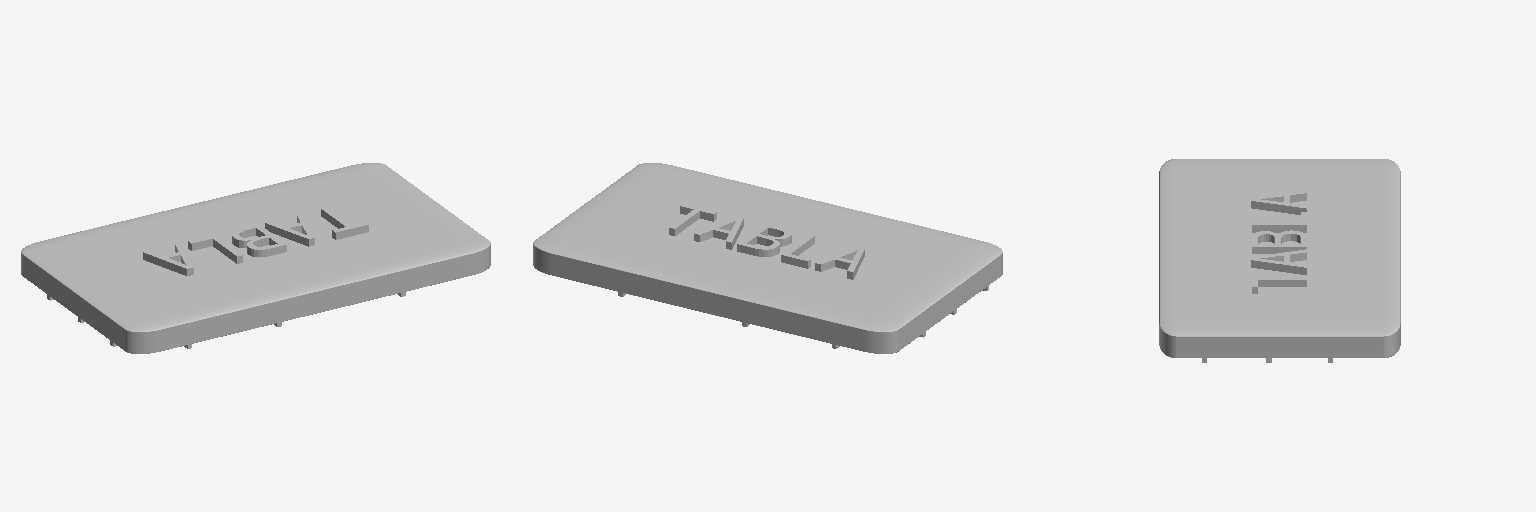
The model's file is tabla.obj.
3 views of the same model, side by side, from view 1: azimuth 30°, elevation 25°; view 2: azimuth 150°, elevation 25°; view 3: azimuth 270°, elevation 25° (orthographic).
Visible parts, largest first — view 1: obj_0; view 2: obj_0; view 3: obj_0.
Part boxes in pixels (x1,y1,x2,y2): obj_0: (21, 163, 490, 353); obj_0: (533, 163, 1002, 353); obj_0: (1159, 159, 1400, 362).
Size of the model in its own units: 150 by 13.97 by 86.